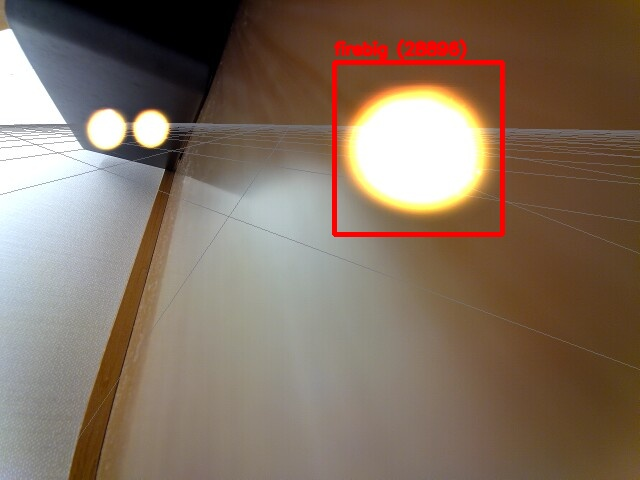firebig: (334, 62, 502, 234)
